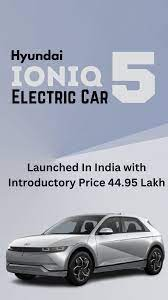Honda Ioniq: (2, 210, 167, 290)
